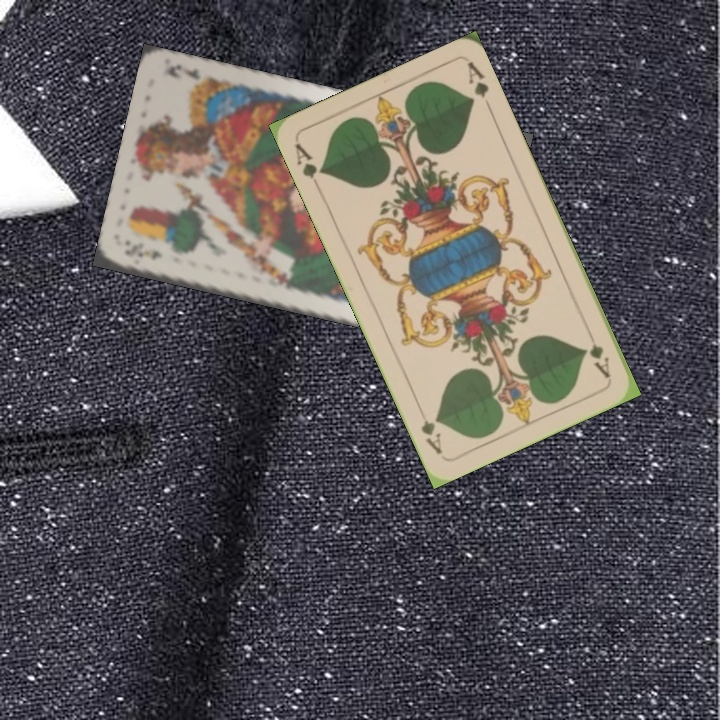EK: (120, 243, 165, 263)
GA: (291, 139, 327, 194), (584, 325, 613, 381)
